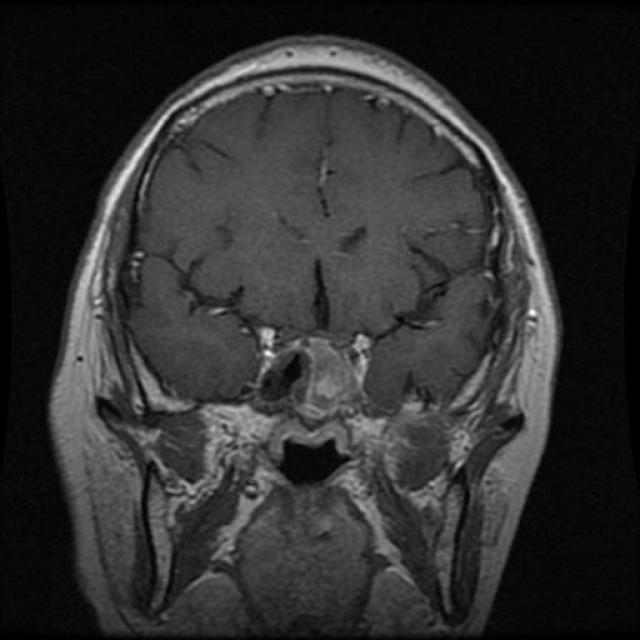pituitary: (248, 308, 376, 416)
